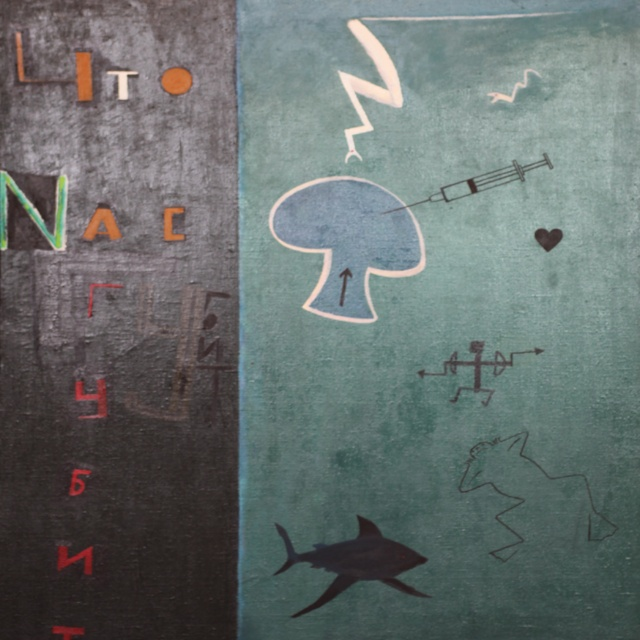Shark: (277, 500, 436, 617)
